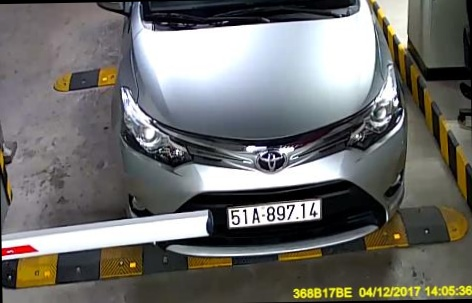plate: (220, 193, 326, 229)
